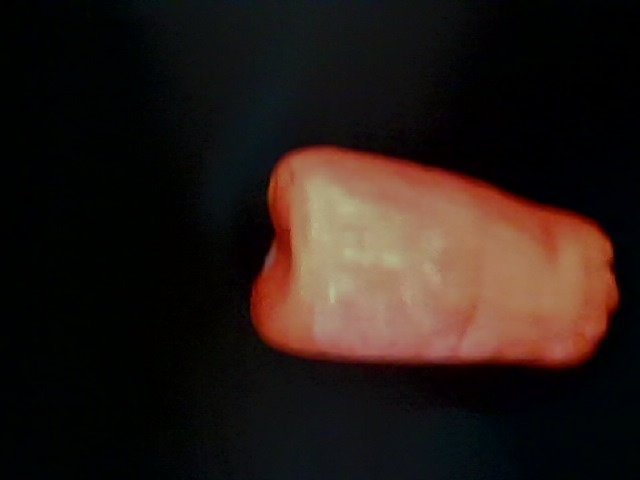QTLJ: (217, 318, 422, 476)
